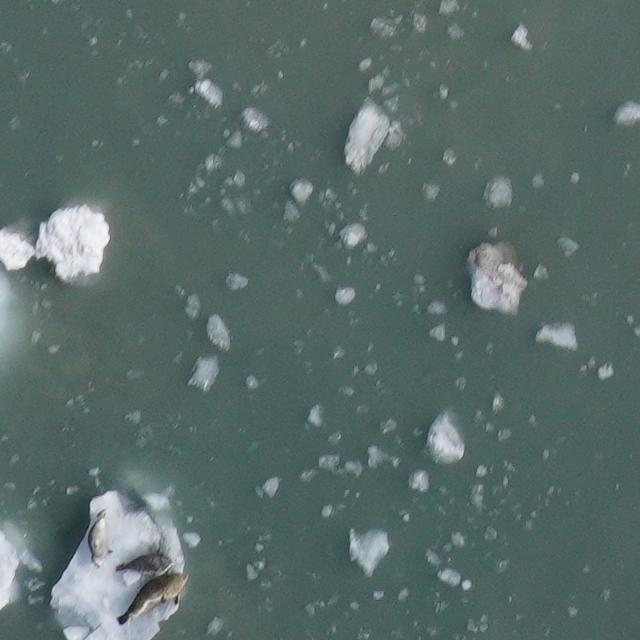seal: (107, 564, 198, 628), (79, 507, 118, 570), (112, 551, 177, 582)
